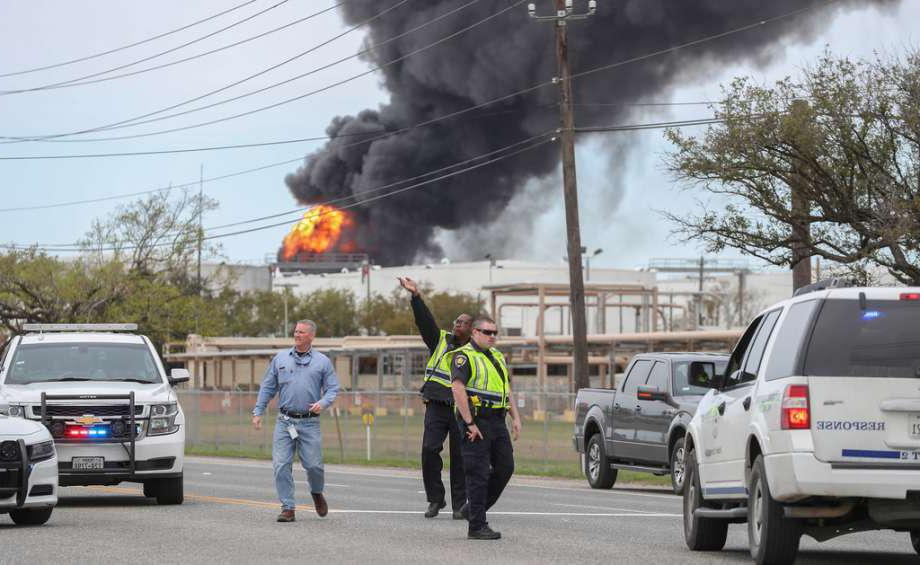fire: (275, 201, 355, 265)
